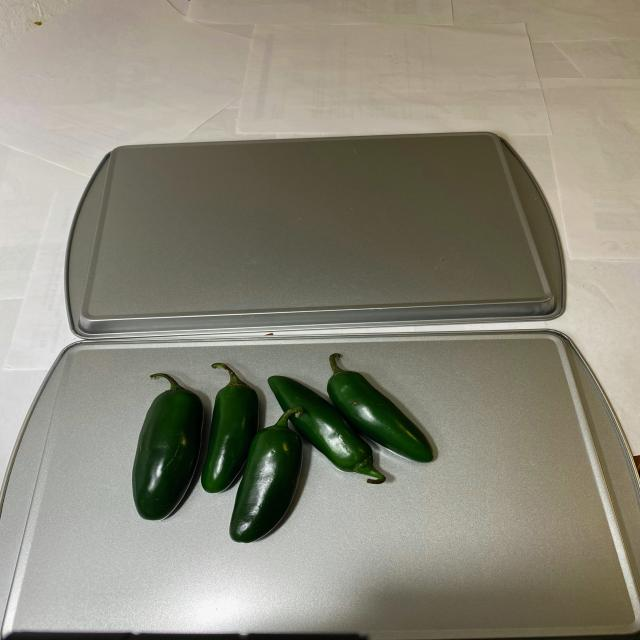chilli: (107, 354, 447, 548)
